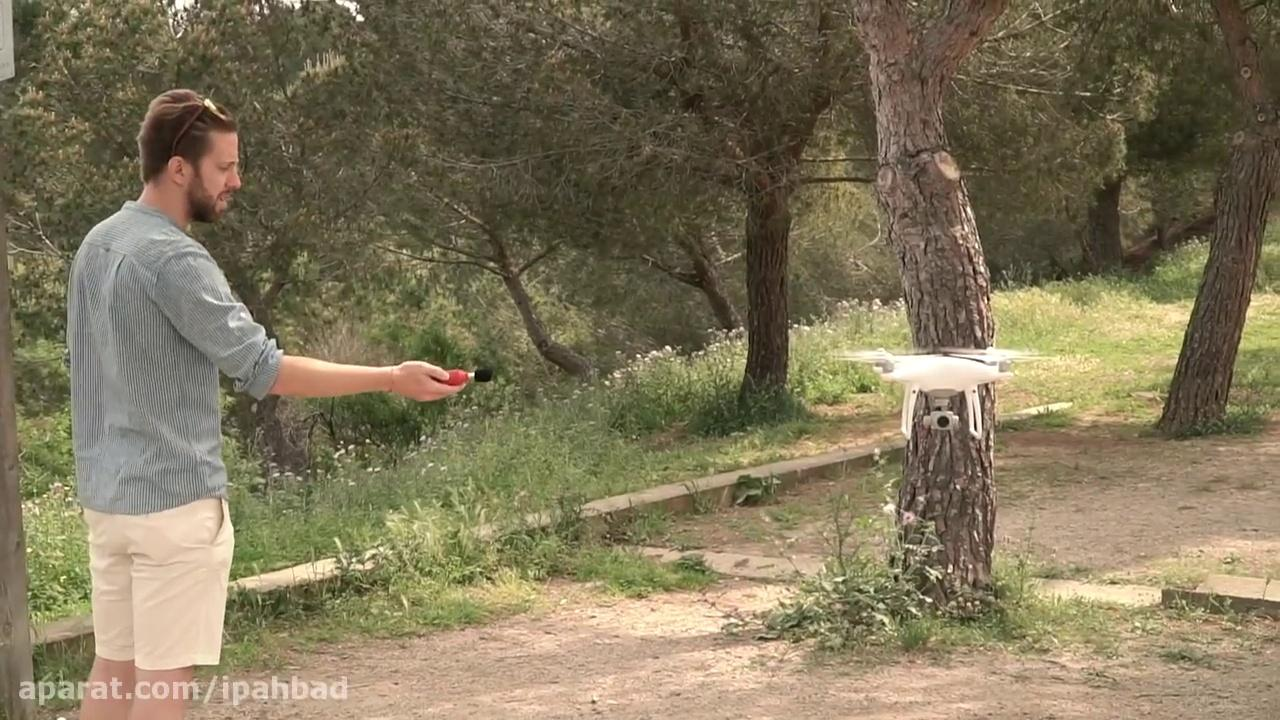drone: (827, 343, 1049, 442)
